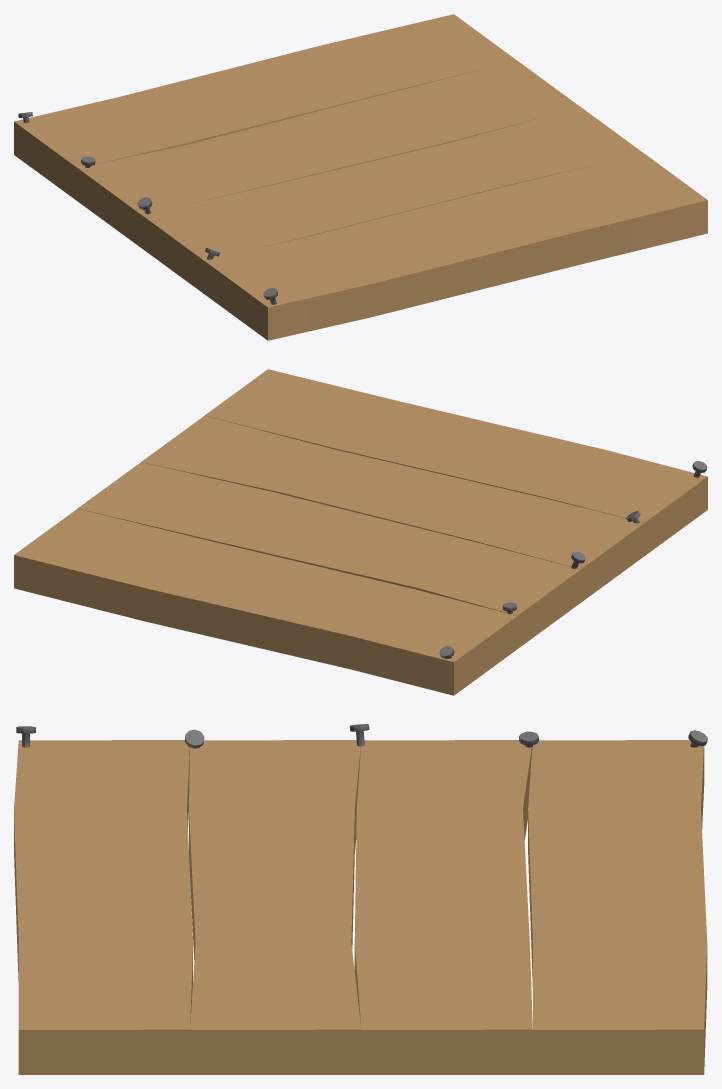
The model's file is SM_PlankBase.fbx.
3 views of the same model, one above another, from view 1: azimuth 30°, elevation 25°; view 2: azimuth 150°, elevation 25°; view 3: azimuth 270°, elevation 25° (orthographic). The views are drawn at different scales.
Parts seen in each view (by area): view 1: Plank_base; view 2: Plank_base; view 3: Plank_base.
Boxes of the visible parts, x1,y1,x2,y2 form: Plank_base: (14, 14, 707, 340); Plank_base: (14, 369, 707, 695); Plank_base: (14, 724, 707, 1074).
Bounding box in the file's own units: 403 × 41.77 × 405.
